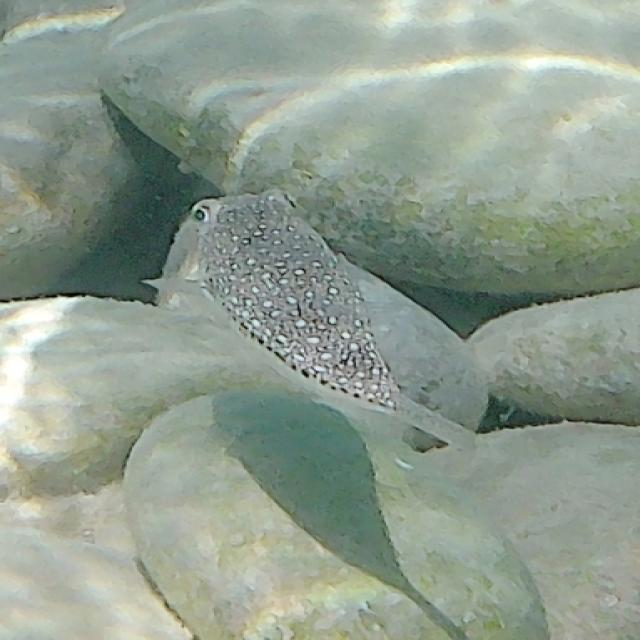Balik: (191, 190, 399, 408)
